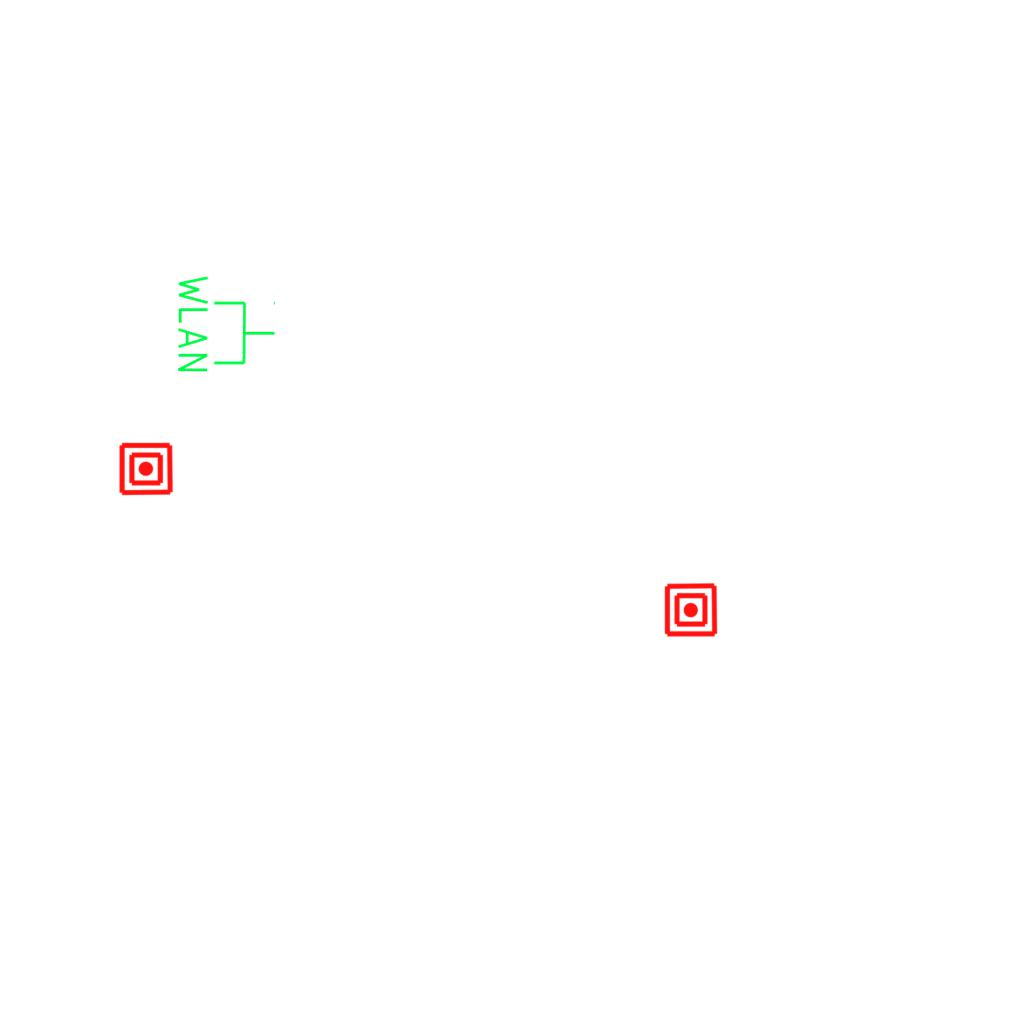NAM-Nichtautomatischer_Melder: (663, 582, 719, 638), (118, 441, 174, 497)
WLAN: (174, 271, 278, 376)
